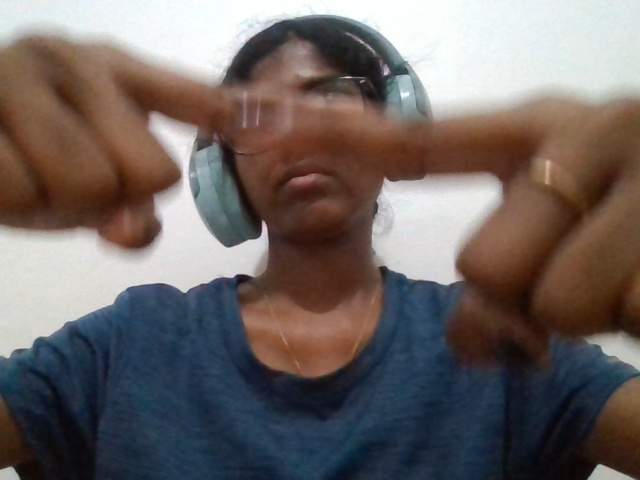Sign: (4, 10, 639, 444)
